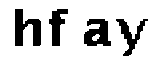a: (81, 17, 111, 49)
f: (45, 7, 74, 50)
h: (9, 2, 43, 52)
y: (112, 13, 151, 60)
